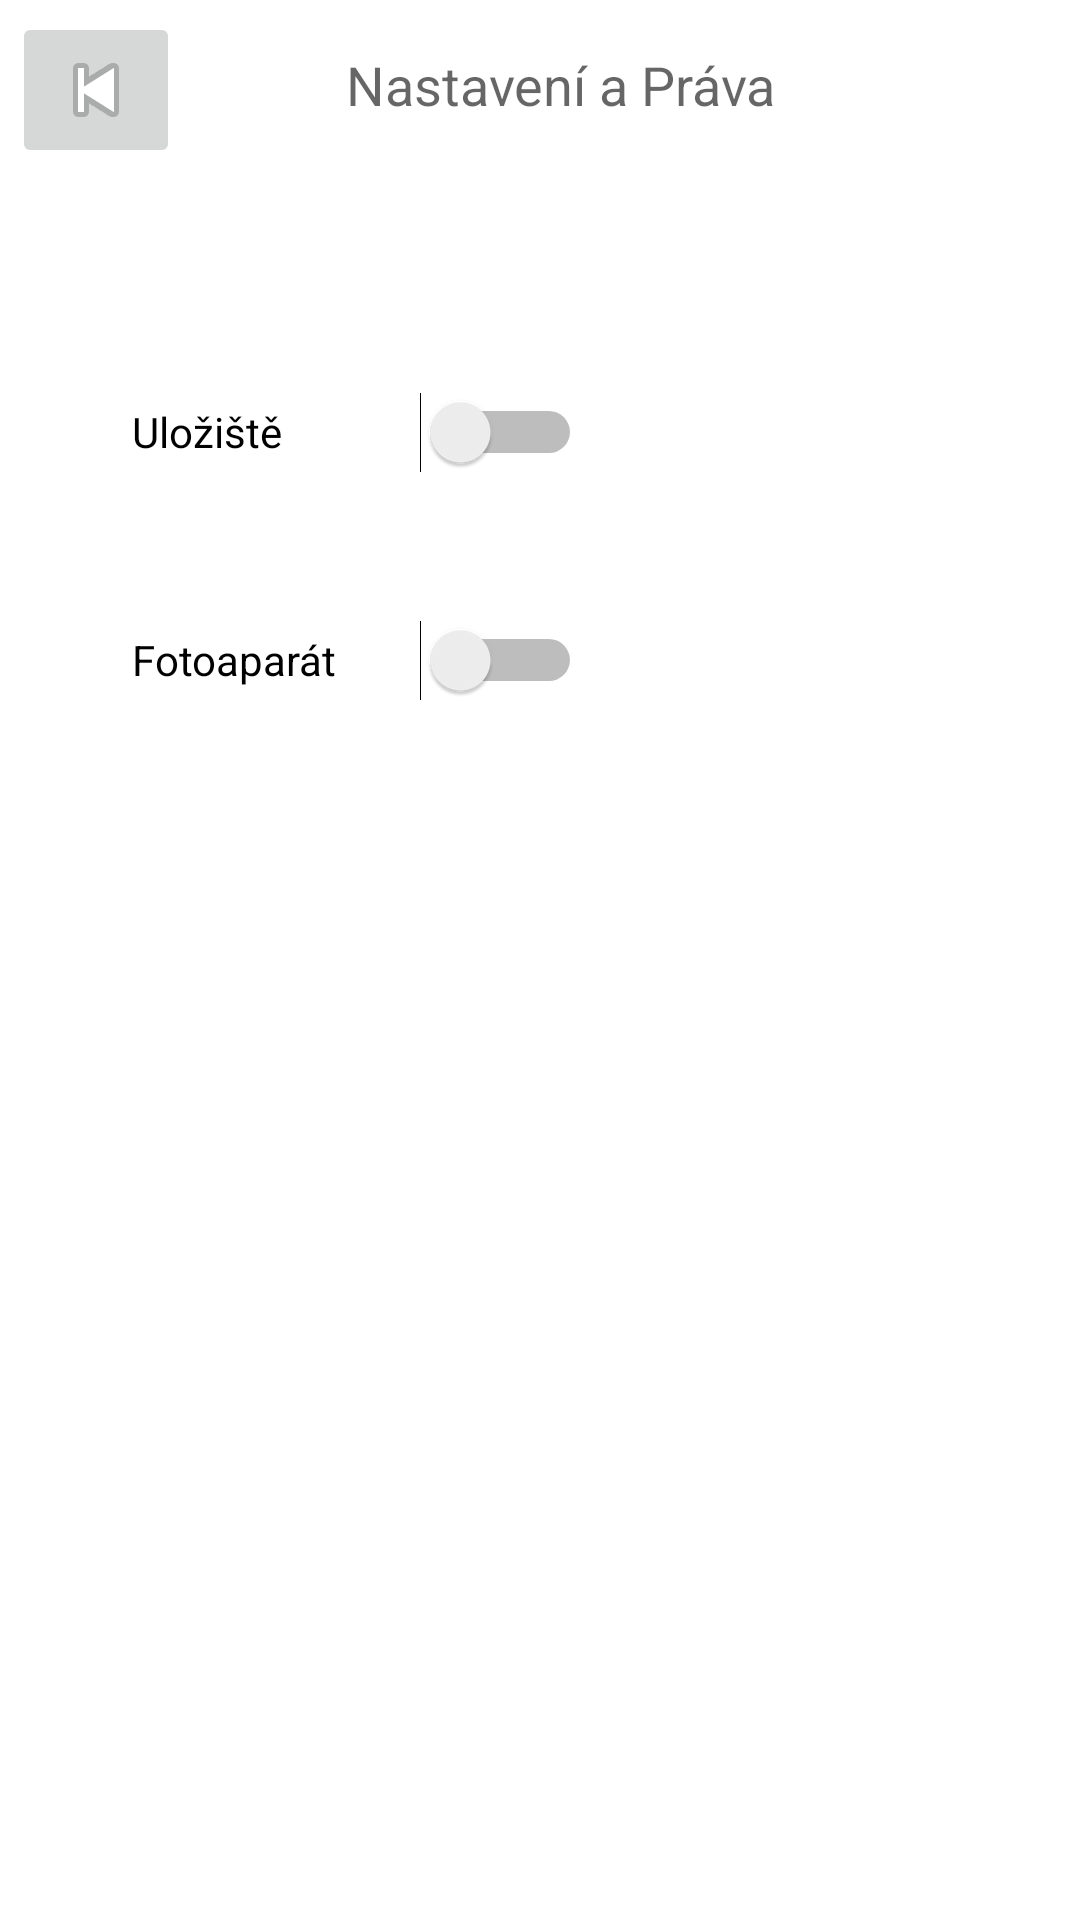

Locate icon controls on the screen. Image size 1080w x 1920h, boxes as (x1, y1, x2, y2).
previous: (24, 30, 168, 150)
